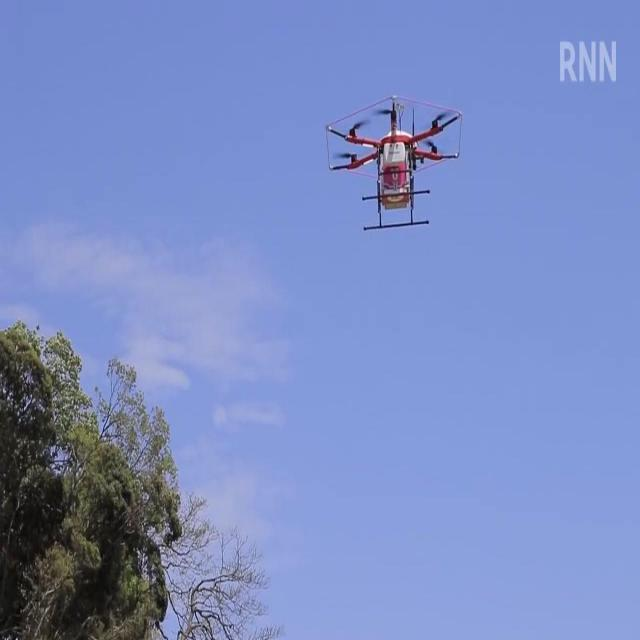UAV: (326, 94, 462, 231)
